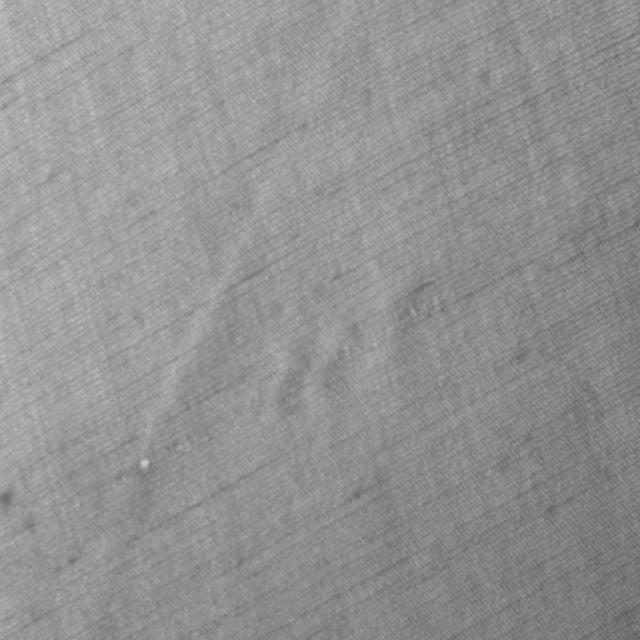hole: (138, 452, 150, 472)
